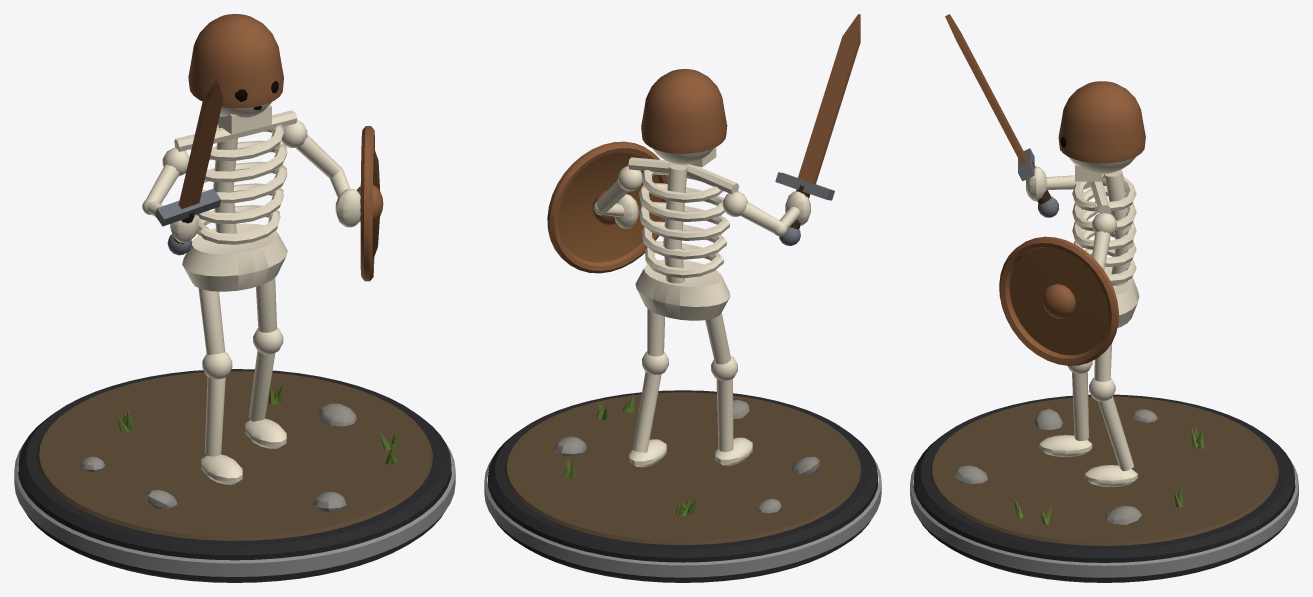
The model's file is skeleton.glb.
3 views of the same model, side by side, from view 1: azimuth 30°, elevation 25°; view 2: azimuth 150°, elevation 25°; view 3: azimuth 270°, elevation 25° (orthographic). The views are drawn at different scales.
Visible parts, largest first — view 1: skeleton; view 2: skeleton; view 3: skeleton.
Part boxes in pixels (x1,y1,x2,y2): skeleton: [14, 14, 455, 582]; skeleton: [484, 14, 881, 582]; skeleton: [910, 14, 1298, 582].
Bounding box in the file's own units: 0.856 × 1.08 × 0.856.
